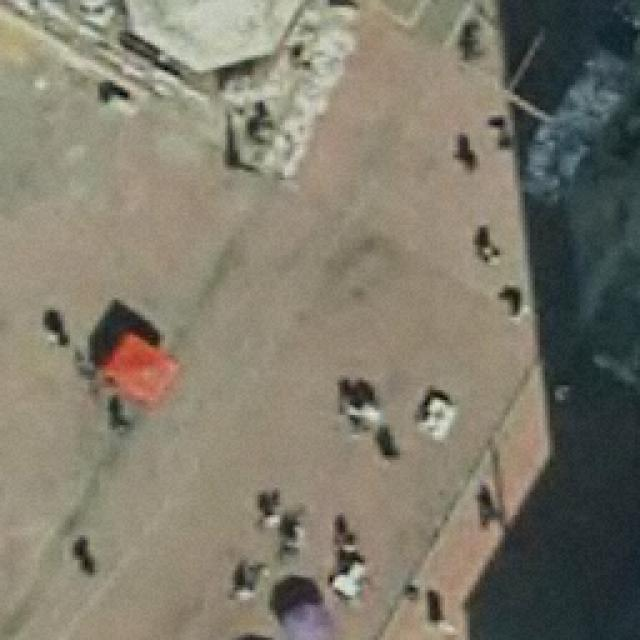vendedor_ambulante: (278, 593, 339, 640)
